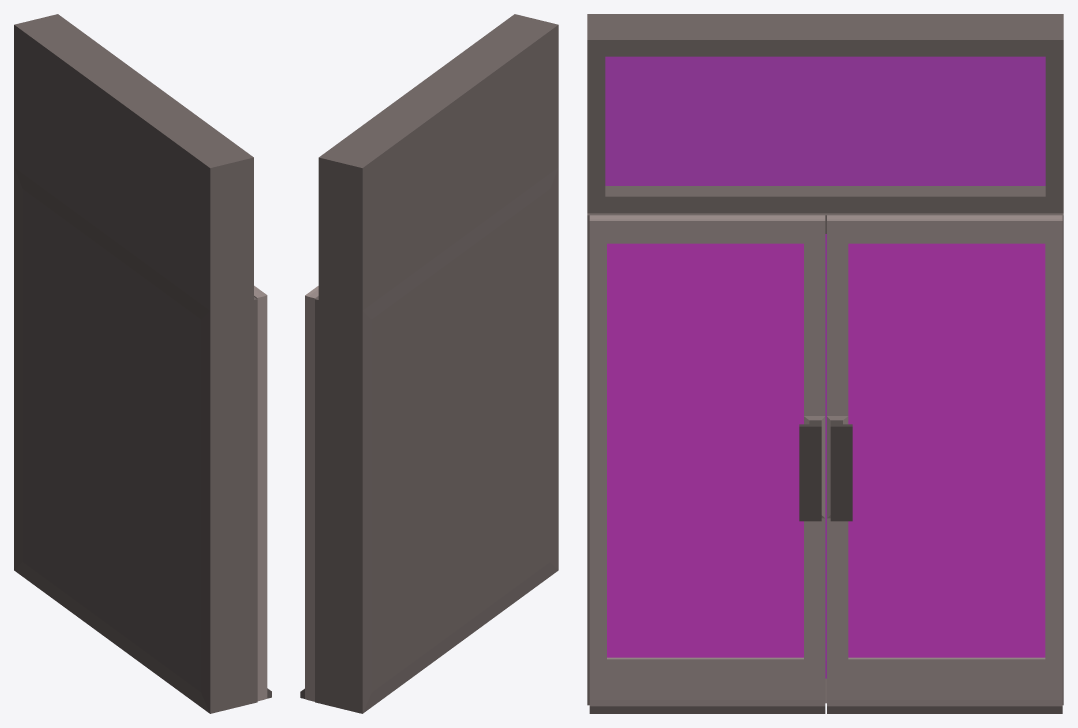
The model's file is OpenAbleDoor.fbx.
3 views of the same model, side by side, from view 1: azimuth 30°, elevation 25°; view 2: azimuth 150°, elevation 25°; view 3: azimuth 270°, elevation 25° (orthographic). The views are drawn at different scales.
Parts seen in each view (by area): view 1: Cube, Cube.001; view 2: Cube, Cube.002; view 3: Cube.001, Cube.002, Cube.
Part boxes in pixels (x1,y1,x2,y2): Cube: (14, 14, 257, 713); Cube.001: (254, 285, 271, 701); Cube: (315, 14, 558, 713); Cube.002: (300, 286, 318, 701); Cube.001: (589, 215, 825, 713); Cube.002: (827, 215, 1062, 713); Cube: (587, 14, 1063, 705).
Size of the model in its own units: 107 by 797 by 519.
